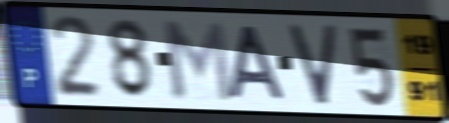2: (47, 14, 104, 101)
5: (346, 24, 397, 109)
8: (105, 17, 156, 100)
A: (227, 23, 289, 102)
M: (158, 17, 236, 104)
V: (285, 22, 340, 108)
